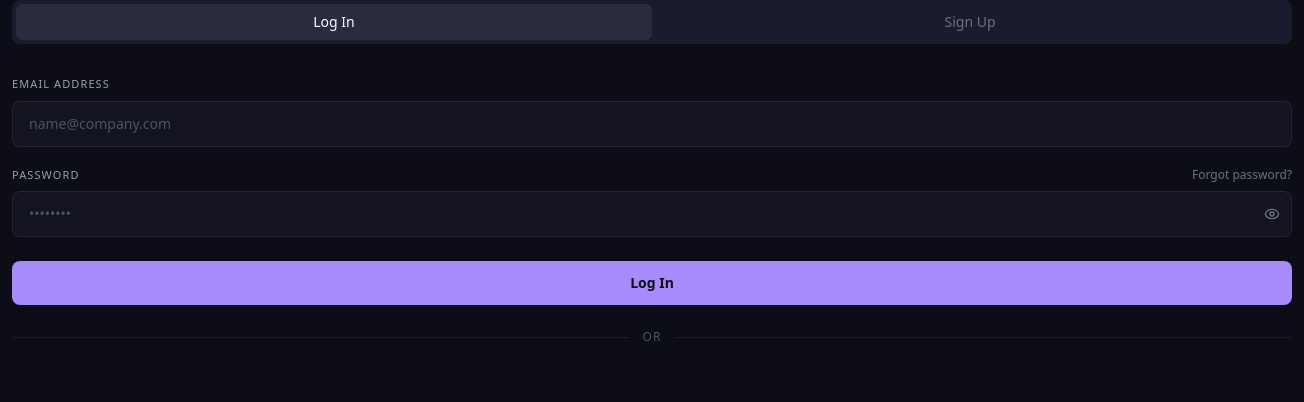
Scenario: LoginForm › shows validation errors when submitted empty
The width and height of the screenshot is (1304, 402).
Step 1. Click the button "Log In" → x=652, y=283, box [12,261,1292,305]
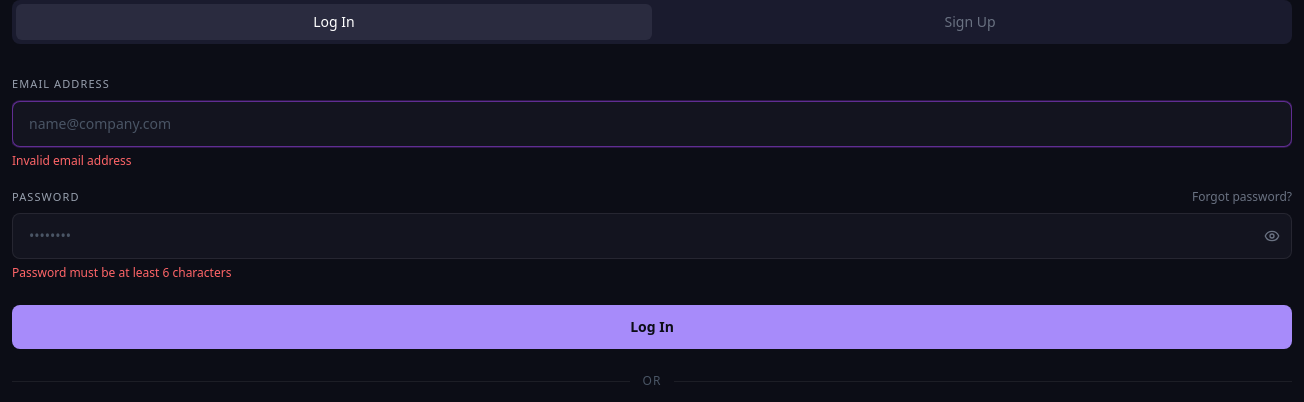
Result: the text "Invalid email address" is shown at [12,152,132,168]
